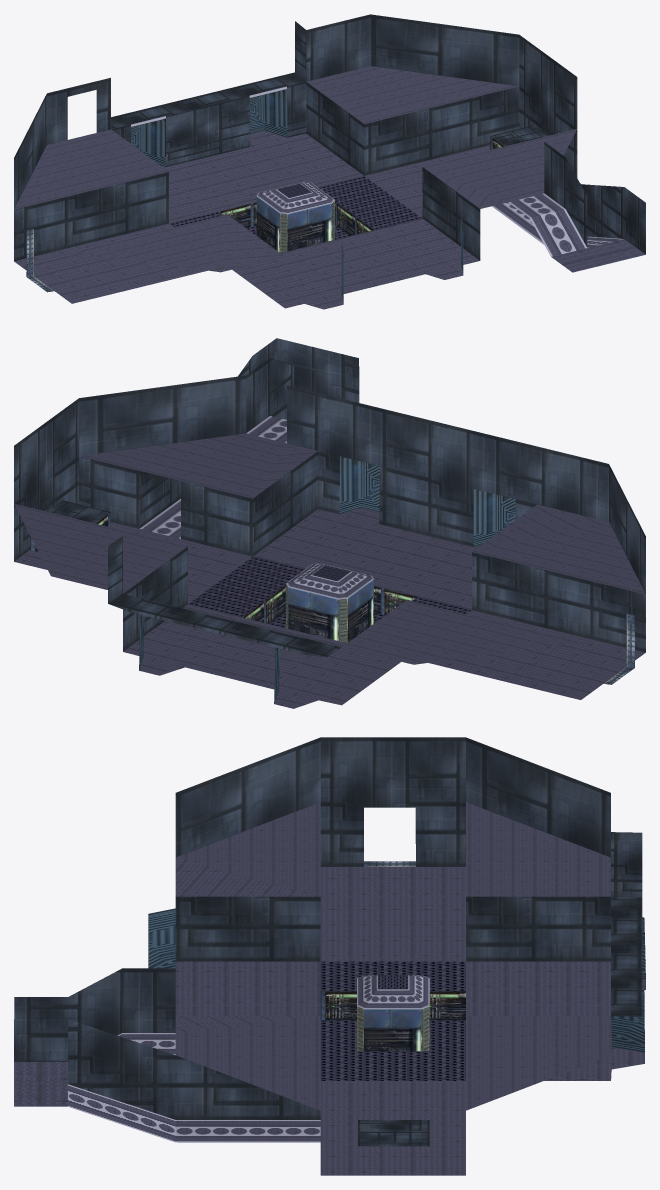
The picture shows the model from 3 angles, top to bottom: view 1: azimuth 30°, elevation 25°; view 2: azimuth 150°, elevation 25°; view 3: azimuth 270°, elevation 25°; orthographic projection. The views are drawn at different scales.
Visible parts, largest first — view 1: Box07; view 2: Box07; view 3: Box07.
Part boxes in pixels (left/top/right/bottom): Box07: left=14, top=14, right=645, bottom=309; Box07: left=14, top=338, right=645, bottom=708; Box07: left=14, top=737, right=645, bottom=1175.
Size of the model in its own units: 7290 by 1722 by 6215.
9 materials, 9 textured.
